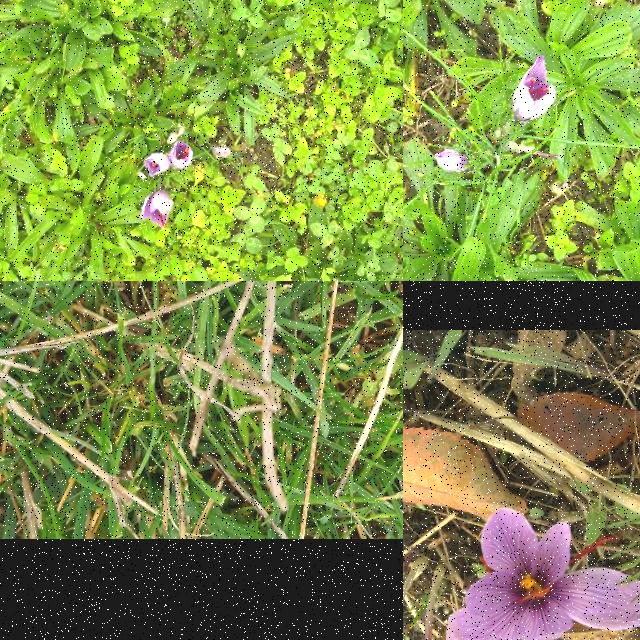flower: (445, 507, 640, 640), (512, 55, 556, 125), (140, 188, 174, 230), (434, 149, 471, 173), (144, 152, 170, 178), (171, 141, 193, 169)
